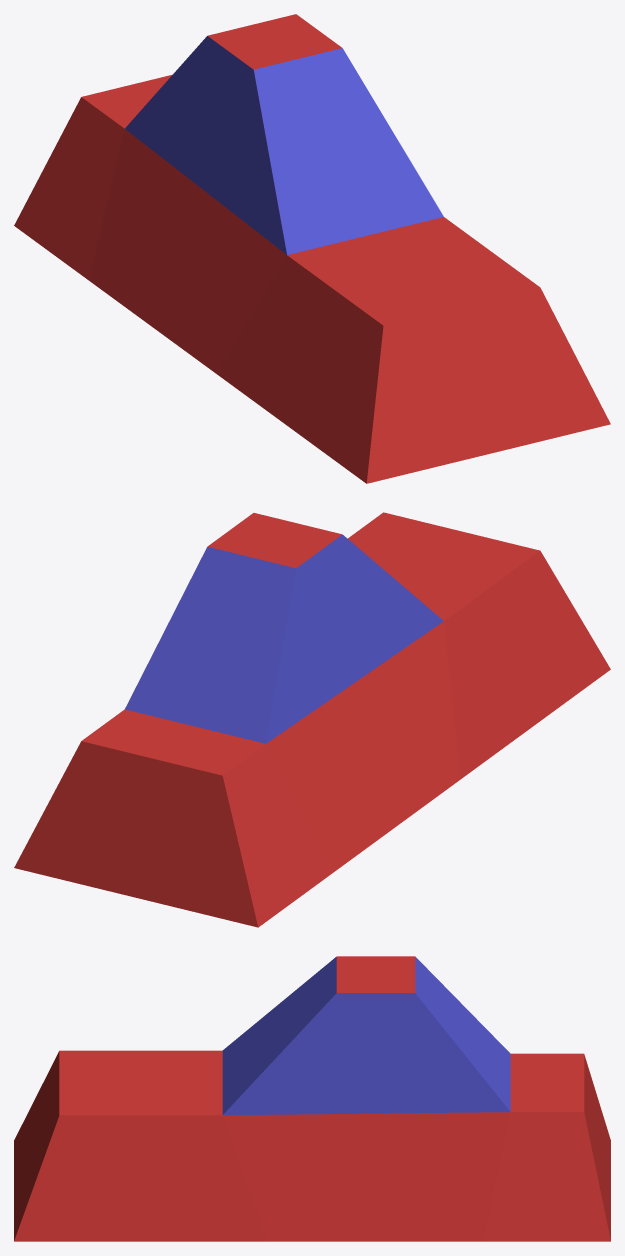
File: car_.gltf
The picture shows the model from 3 angles, top to bottom: view 1: azimuth 30°, elevation 25°; view 2: azimuth 150°, elevation 25°; view 3: azimuth 270°, elevation 25°; orthographic projection. The views are drawn at different scales.
Visible parts, largest first — view 1: car_s1; view 2: car_s1; view 3: car_s1.
Boxes of the visible parts, x1,y1,x2,y2 form: car_s1: [14, 14, 610, 483]; car_s1: [14, 512, 610, 927]; car_s1: [14, 956, 610, 1241].
Size of the model in its own units: 0.4 by 0.4 by 1.
